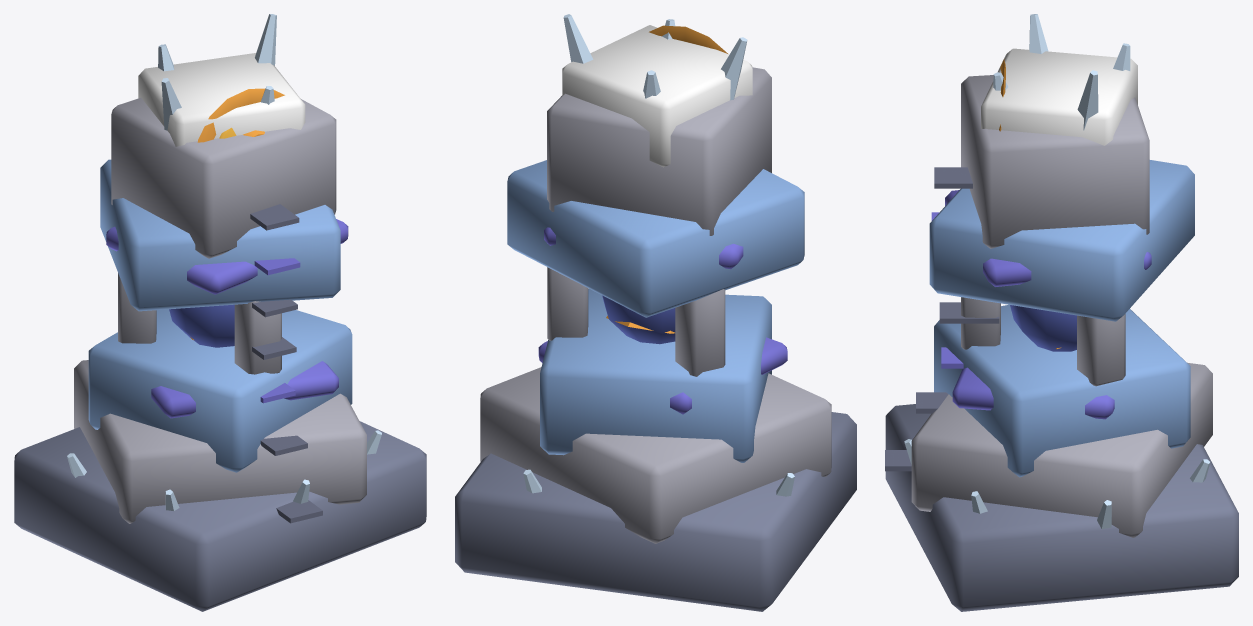
Rendered from frost_sentinel.glb.
3 views of the same model, side by side, from view 1: azimuth 30°, elevation 25°; view 2: azimuth 150°, elevation 25°; view 3: azimuth 270°, elevation 25° (orthographic). The views are drawn at different scales.
Parts seen in each view (by area): view 1: FrostSentinel; view 2: FrostSentinel; view 3: FrostSentinel.
Boxes of the visible parts, x1,y1,x2,y2 form: FrostSentinel: (14, 14, 426, 611); FrostSentinel: (455, 14, 856, 611); FrostSentinel: (885, 14, 1238, 611).
Size of the model in its own units: 2.69 by 4 by 2.54.
1 material, 1 textured.
